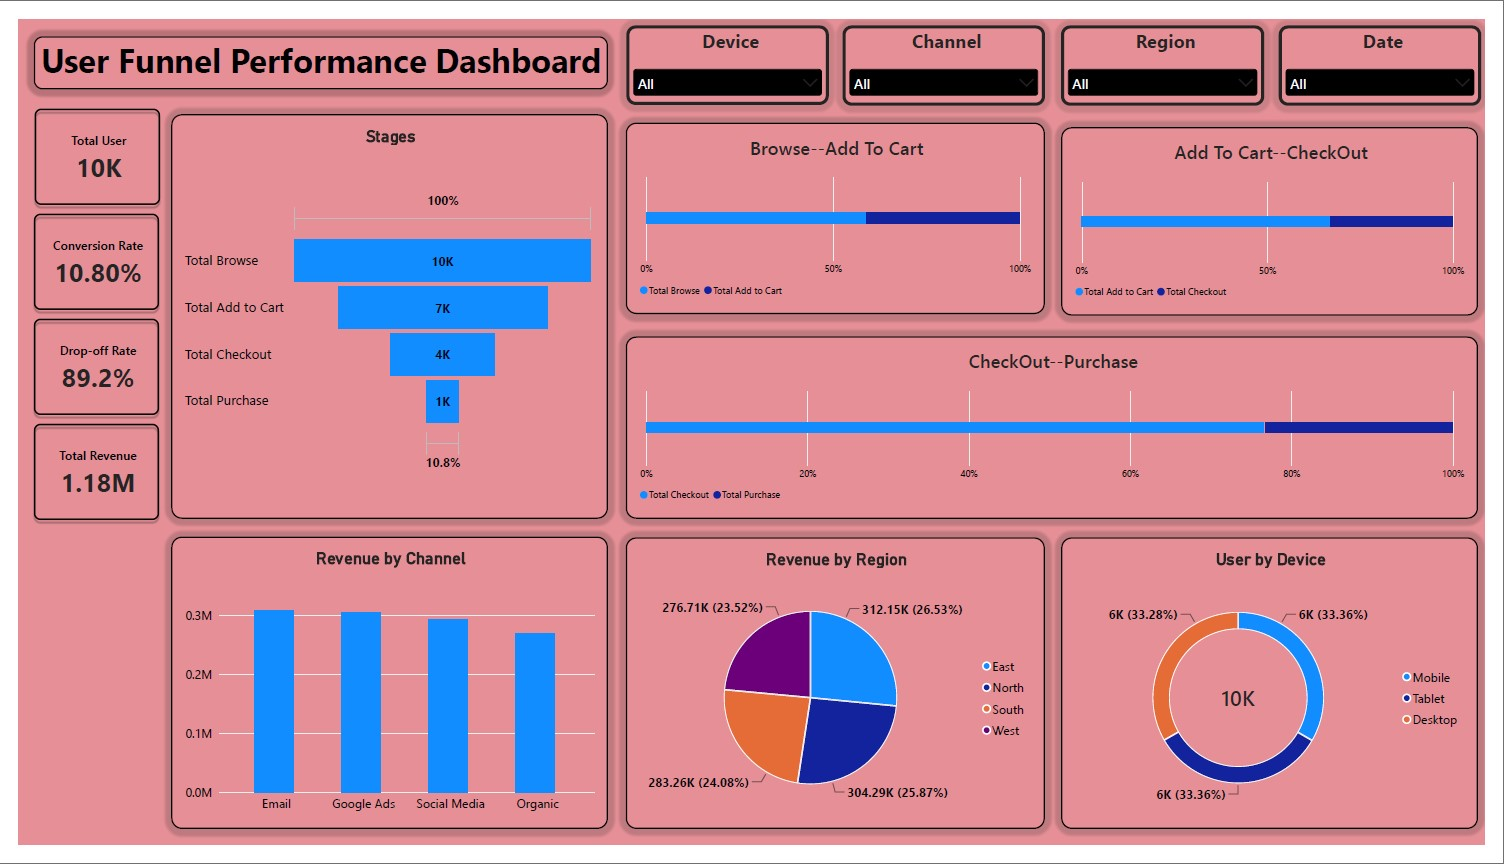

Layout of this report page (visuals, bound fields, positions):
{"tool":"powerbi","page":{"name":"Page 1","canvas":[1920,1080],"ordinal":0},"visuals":[{"type":"textbox","box":[20,22,752,70],"z":0},{"type":"slicer","title":"Date","fields":{"Values":["funnel_analysis_data.Date.Variation.Date Hierarchy.Day"]},"box":[1650,7.5,265,105],"z":1000},{"type":"slicer","title":"Region","fields":{"Values":["funnel_analysis_data.Region"]},"box":[1365,7.5,266.2,105],"z":2000},{"type":"slicer","title":"Channel","fields":{"Values":["funnel_analysis_data.Channel"]},"box":[1078.8,7.5,265,105],"z":3000},{"type":"slicer","title":"Device","fields":{"Values":["funnel_analysis_data.Device"]},"box":[795.6,7.8,265,104.3],"z":4000},{"type":"cardVisual","title":"Total User","fields":{"Data":["funnel_analysis_data.Total User"]},"box":[15.9,111.8,175,137.5],"z":5000},{"type":"cardVisual","title":"Total User","fields":{"Data":["funnel_analysis_data.Conversion Rate"]},"box":[15.5,249.1,175,137.5],"z":6000},{"type":"cardVisual","title":"Total User","fields":{"Data":["funnel_analysis_data.Drop-off Rate"]},"box":[15.5,386.4,175,137.5],"z":7000},{"type":"cardVisual","title":"Total User","fields":{"Data":["funnel_analysis_data.Total Revenue"]},"box":[15.5,523.6,175,137.5],"z":8000},{"type":"funnel","title":"Stages","fields":{"Y":["funnel_analysis_data.Total Browse","funnel_analysis_data.Total Add to Cart","funnel_analysis_data.Total Checkout","funnel_analysis_data.Total Purchase"]},"box":[200,123.5,571.8,530],"z":9000},{"type":"clusteredColumnChart","title":"Revenue by Channel","fields":{"Category":["funnel_analysis_data.Channel"],"Y":["funnel_analysis_data.Total Revenue"]},"box":[200,676.7,571.7,383.3],"z":10000},{"type":"donutChart","title":"User by Device","fields":{"Category":["funnel_analysis_data.Device"],"Y":["funnel_analysis_data.Total User"]},"box":[1365,677.5,546.2,382.5],"z":11000},{"type":"pieChart","title":"Revenue by Region","fields":{"Category":["funnel_analysis_data.Region"],"Y":["funnel_analysis_data.Total Revenue"]},"box":[795,677.5,548.8,382.5],"z":12000},{"type":"hundredPercentStackedBarChart","title":"Browse--Add To Cart","fields":{"Y":["funnel_analysis_data.Total Browse","funnel_analysis_data.Total Add to Cart"]},"box":[795,135,548.8,251.2],"z":13000},{"type":"hundredPercentStackedBarChart","title":"CheckOut--Purchase","fields":{"Y":["funnel_analysis_data.Total Checkout","funnel_analysis_data.Total Purchase"]},"box":[795,415,1116.2,238.8],"z":14000},{"type":"hundredPercentStackedBarChart","title":"Add To Cart--CheckOut","fields":{"Y":["funnel_analysis_data.Total Add to Cart","funnel_analysis_data.Total Checkout"]},"box":[1365,141.2,546.2,246.2],"z":15000}]}

Visuals, with their boxes in screenshot pixels (x1, y1, x2, y2), scaled from the page's 1920x1080 canvas onto the 1504x864 screenshot:
textbox: [left=16, top=18, right=605, bottom=74]
"Date" slicer: [left=1292, top=6, right=1500, bottom=90]
"Region" slicer: [left=1069, top=6, right=1278, bottom=90]
"Channel" slicer: [left=845, top=6, right=1053, bottom=90]
"Device" slicer: [left=623, top=6, right=831, bottom=90]
"Total User" cardVisual: [left=12, top=89, right=150, bottom=199]
"Total User" cardVisual: [left=12, top=199, right=149, bottom=309]
"Total User" cardVisual: [left=12, top=309, right=149, bottom=419]
"Total User" cardVisual: [left=12, top=419, right=149, bottom=529]
"Stages" funnel: [left=157, top=99, right=605, bottom=523]
"Revenue by Channel" clusteredColumnChart: [left=157, top=541, right=604, bottom=848]
"User by Device" donutChart: [left=1069, top=542, right=1497, bottom=848]
"Revenue by Region" pieChart: [left=623, top=542, right=1053, bottom=848]
"Browse--Add To Cart" hundredPercentStackedBarChart: [left=623, top=108, right=1053, bottom=309]
"CheckOut--Purchase" hundredPercentStackedBarChart: [left=623, top=332, right=1497, bottom=523]
"Add To Cart--CheckOut" hundredPercentStackedBarChart: [left=1069, top=113, right=1497, bottom=310]
